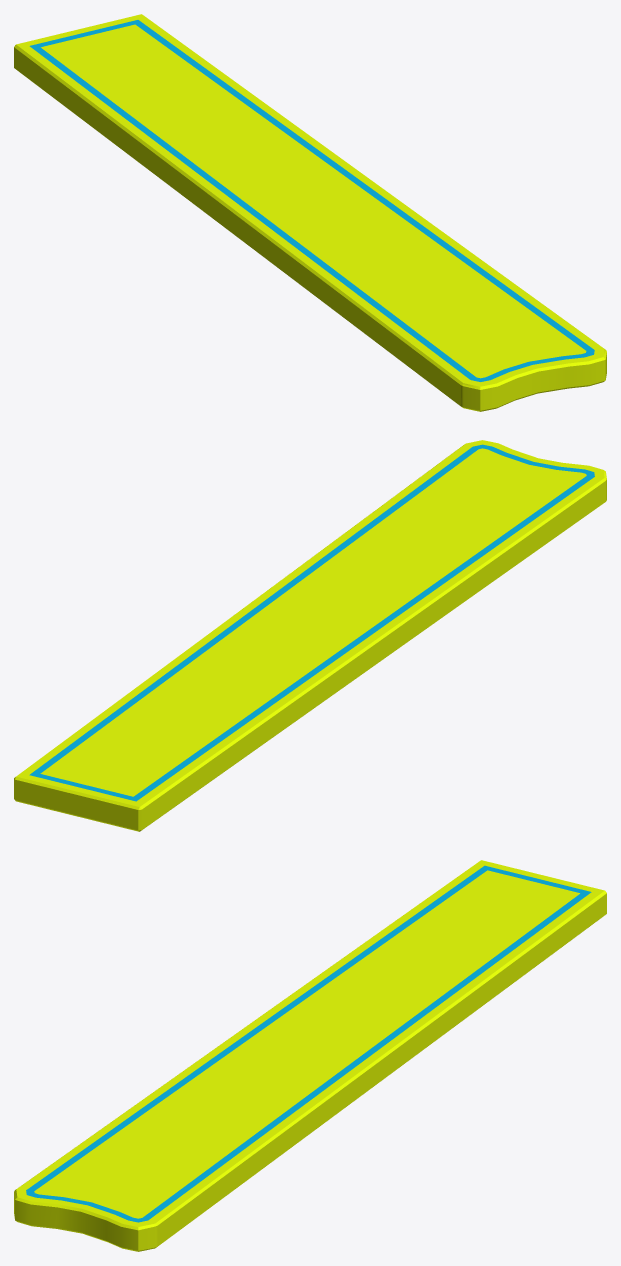
Rendered from Inlane_A.fbx.
3 views of the same model, one above another, from view 1: azimuth 30°, elevation 25°; view 2: azimuth 150°, elevation 25°; view 3: azimuth 330°, elevation 25° (orthographic).
Parts seen in each view (by area): view 1: Inlane_A; view 2: Inlane_A; view 3: Inlane_A.
Part boxes in pixels (bbox=[...]): Inlane_A: bbox=[14, 14, 606, 411]; Inlane_A: bbox=[14, 440, 606, 831]; Inlane_A: bbox=[14, 860, 606, 1251].
Bounding box in the file's own units: 1.72 × 0.2846 × 9.65.
